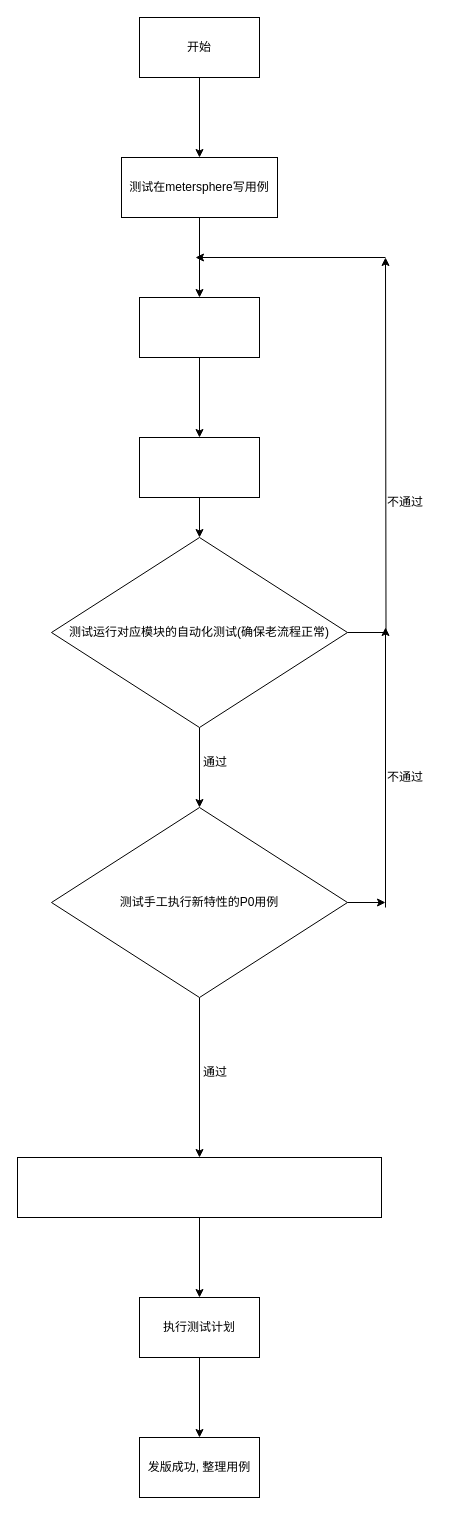
The diagram is 453 pixels wide and 1515 high, and some of its shapes have lost their labels. Here are the shapes that lost their labels. From the top down, the box of each, then its label:
(138, 296, 260, 358): 开发提测
(138, 436, 260, 498): 测试更新服务
(16, 1156, 382, 1218): 测试在metersphere上创建测试计划, 关联要执行的用例
